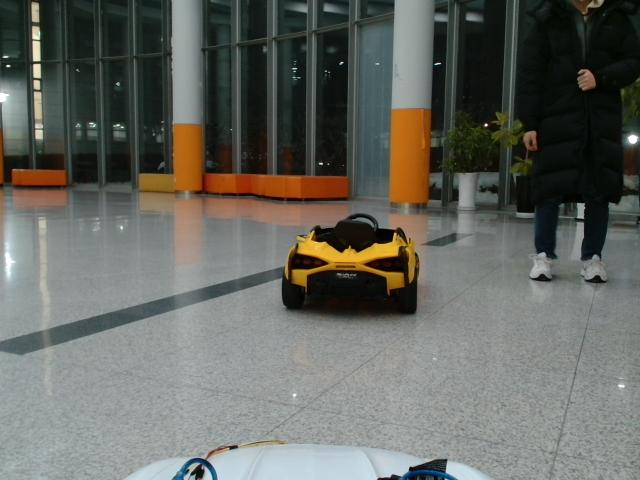car: (281, 213, 419, 314)
